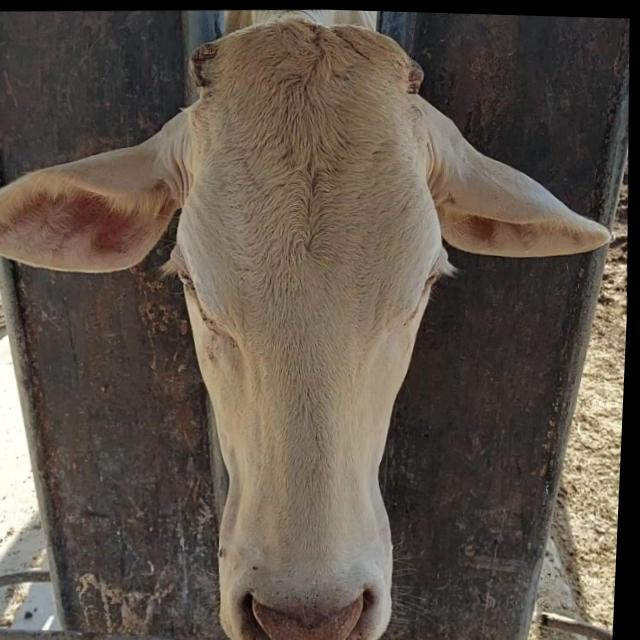cowFace: (150, 12, 464, 640)
